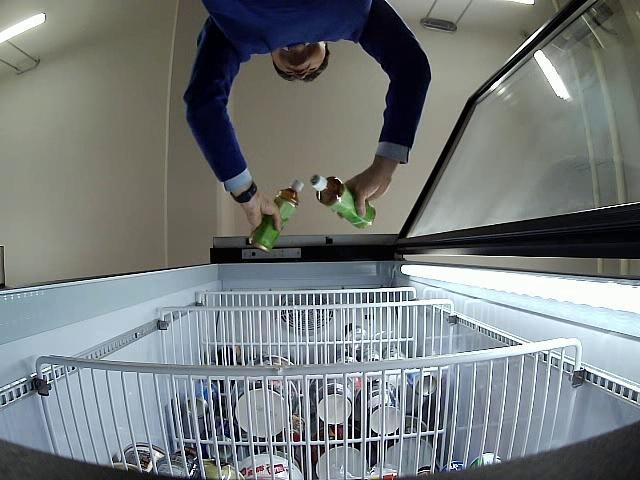19_17cha: (248, 176, 304, 252), (312, 172, 374, 229)
